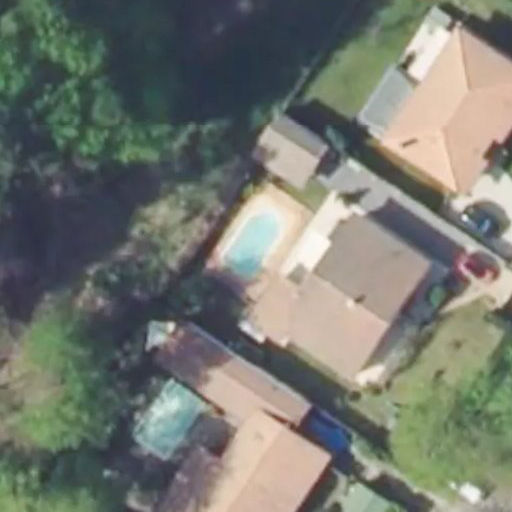pool: (134, 378, 205, 465), (224, 206, 283, 286)
